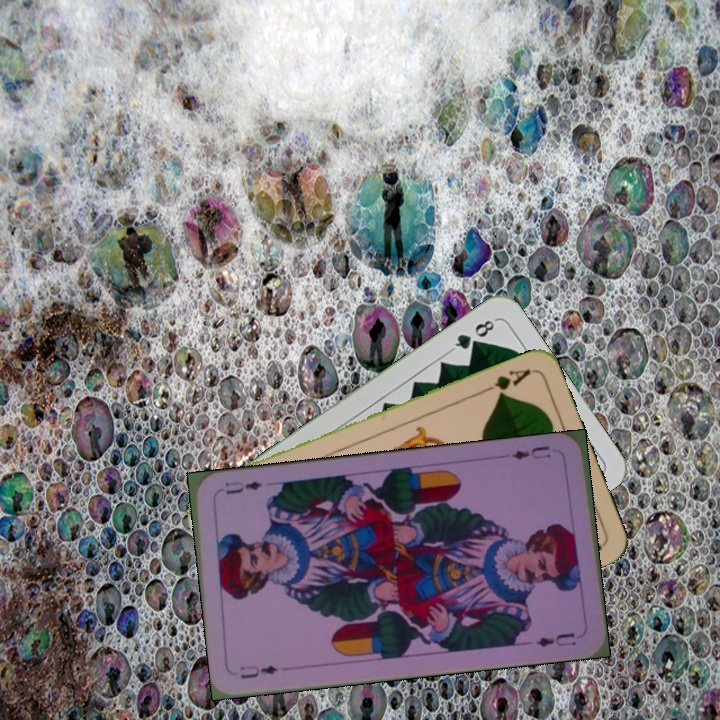EU: (236, 660, 280, 682), (508, 441, 553, 462)
G8: (447, 315, 499, 354)
GA: (478, 364, 534, 399)
